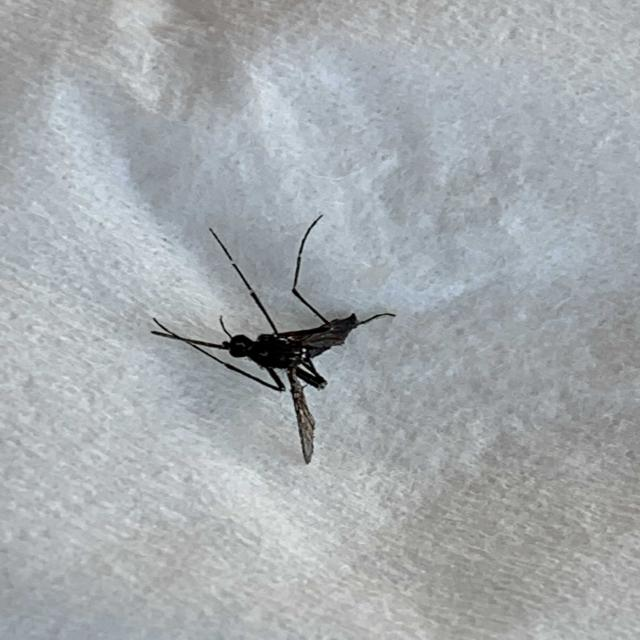albopictus: (148, 199, 410, 467)
